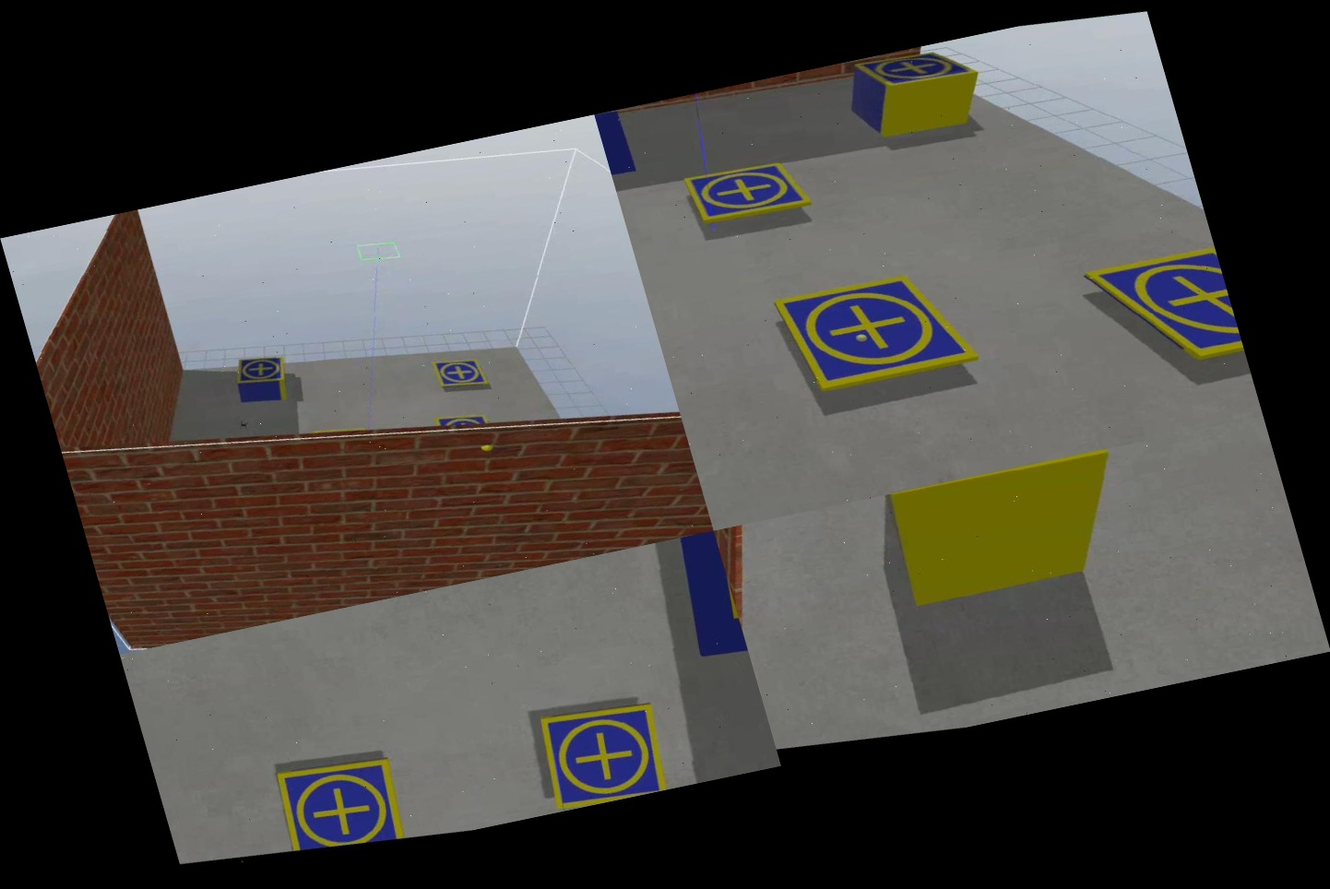small_base: (761, 252, 992, 409), (1065, 230, 1246, 390), (526, 691, 679, 812), (262, 744, 415, 863), (677, 148, 819, 236), (848, 37, 984, 103), (428, 350, 494, 397), (230, 348, 293, 391), (433, 407, 491, 435)
